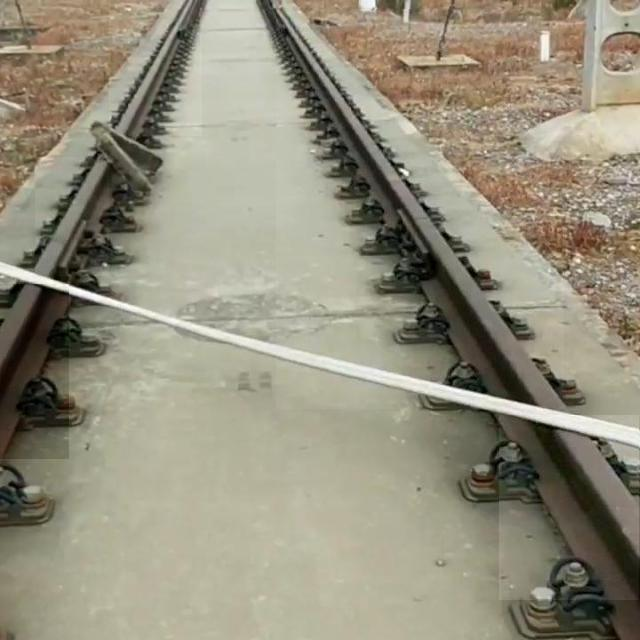rail: (278, 10, 565, 410), (500, 417, 640, 601), (111, 1, 203, 137), (1, 286, 70, 460), (36, 159, 110, 277)
